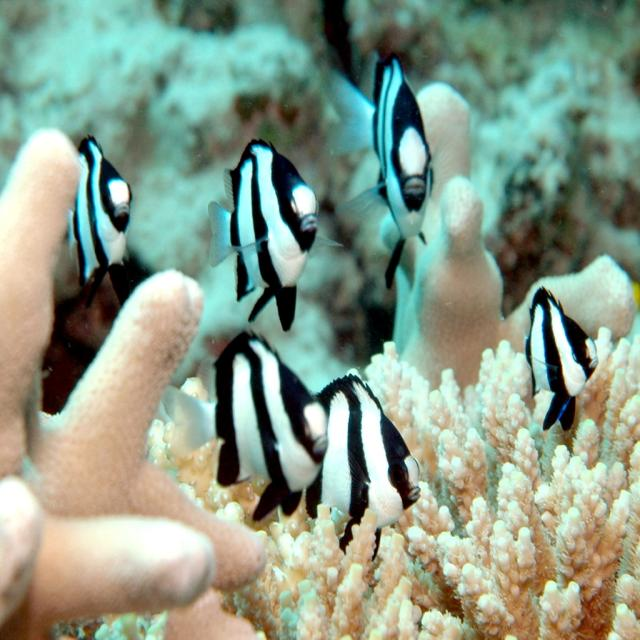Three_striped DasmselFish: (162, 337, 328, 530), (209, 140, 342, 333), (318, 368, 422, 568), (354, 49, 437, 288), (523, 286, 599, 430), (65, 130, 130, 296)
